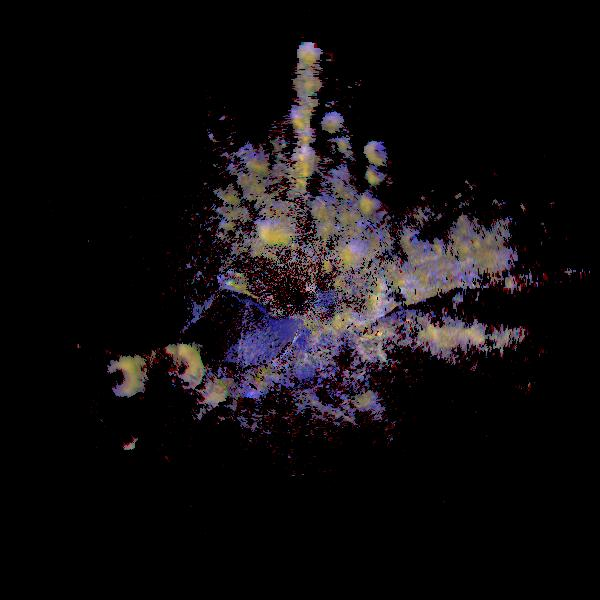roost: (161, 344, 203, 386), (187, 369, 226, 408), (104, 361, 140, 397), (366, 138, 393, 165), (117, 431, 138, 452)
